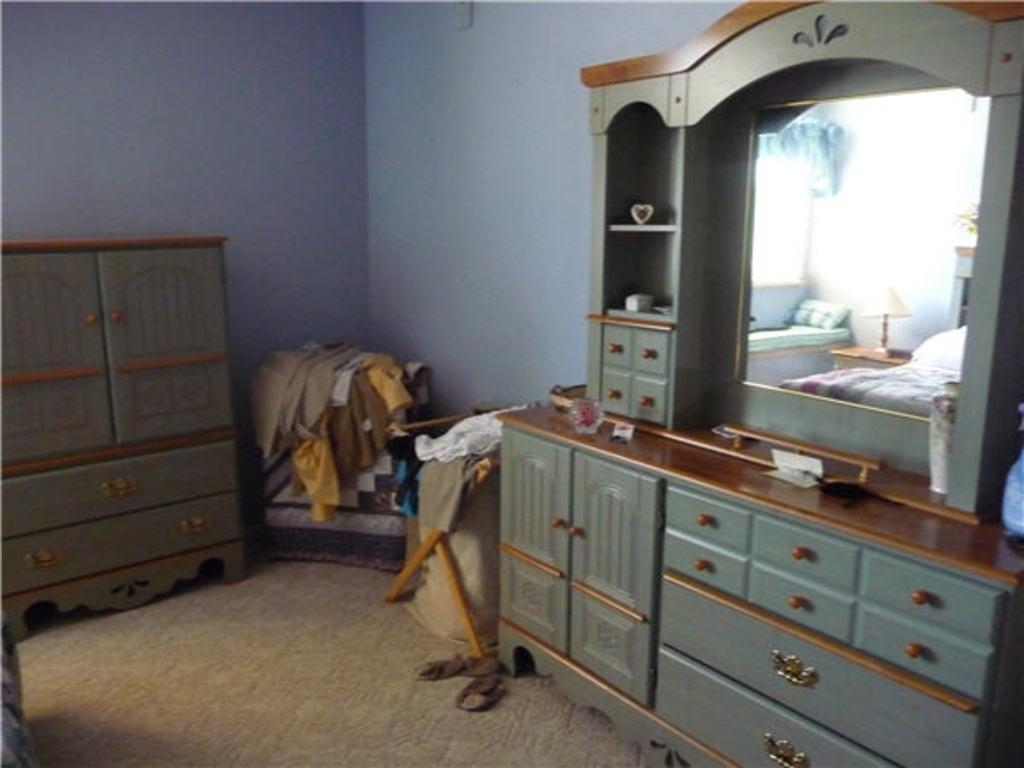cabinet_door: (689, 626, 957, 701), (106, 252, 214, 430), (6, 264, 100, 455), (692, 702, 890, 752), (574, 468, 648, 594), (51, 458, 233, 500), (24, 523, 228, 558), (873, 568, 999, 622), (876, 622, 1006, 669), (574, 595, 648, 676), (508, 437, 562, 544), (500, 566, 578, 636), (760, 524, 846, 574), (766, 574, 844, 629), (664, 546, 750, 594), (685, 504, 751, 546), (633, 378, 668, 422), (630, 332, 664, 374), (603, 328, 632, 364), (605, 370, 632, 404)
handle: (572, 582, 650, 616), (770, 653, 822, 700), (500, 544, 558, 574), (764, 733, 806, 768), (99, 474, 145, 502), (25, 550, 67, 570), (899, 638, 925, 667), (696, 506, 722, 534), (105, 296, 124, 332), (912, 584, 938, 610), (788, 538, 814, 564), (786, 588, 808, 616), (694, 556, 716, 584), (184, 516, 218, 532), (604, 383, 626, 404), (546, 514, 566, 536), (639, 340, 657, 362), (572, 527, 594, 545), (82, 304, 96, 330), (638, 386, 654, 406), (610, 337, 622, 356)
